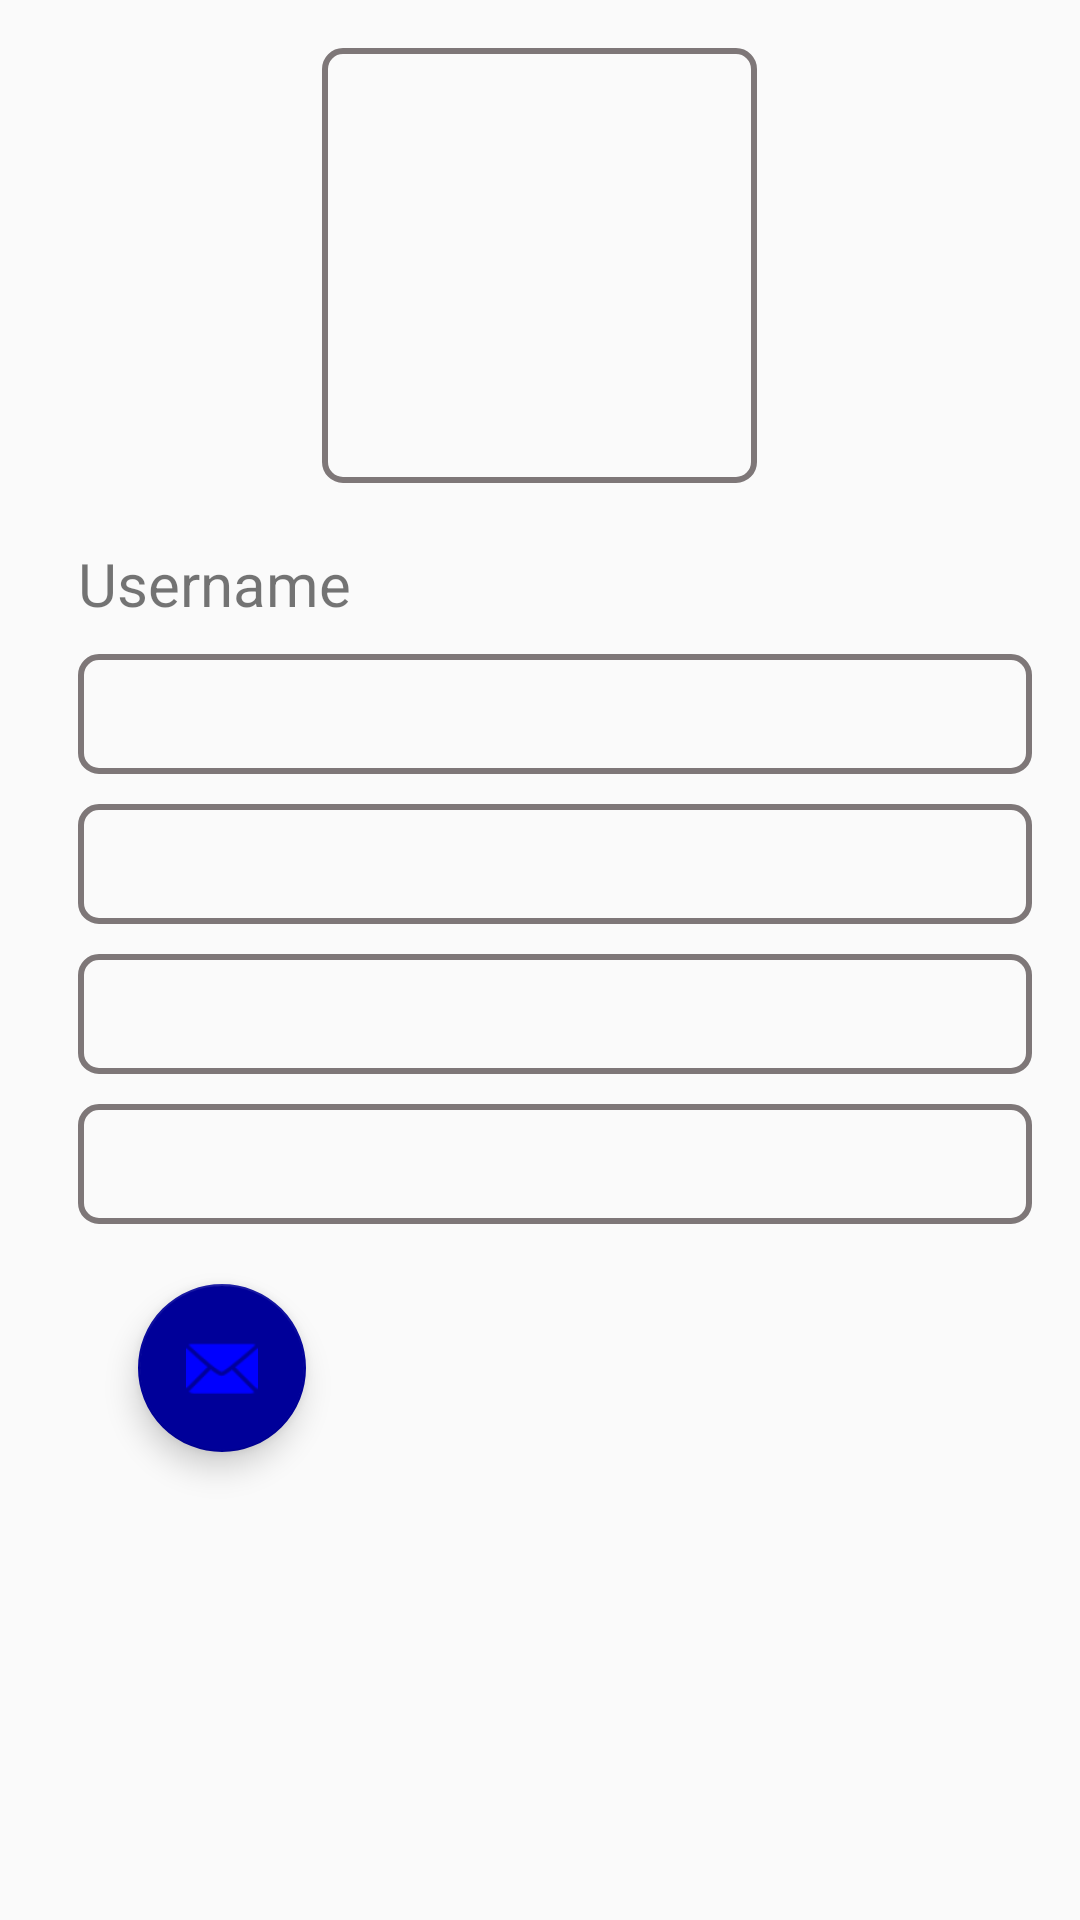

Icon click points for this 1080px×1920px phone screenshot, format (x,y):
Email Icon: (222,1368)
